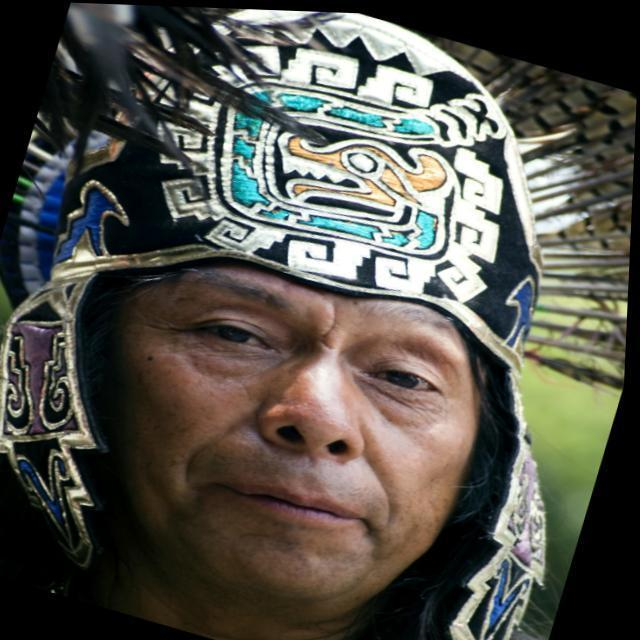puffy_eyes: (186, 332, 283, 378), (361, 371, 442, 413)
